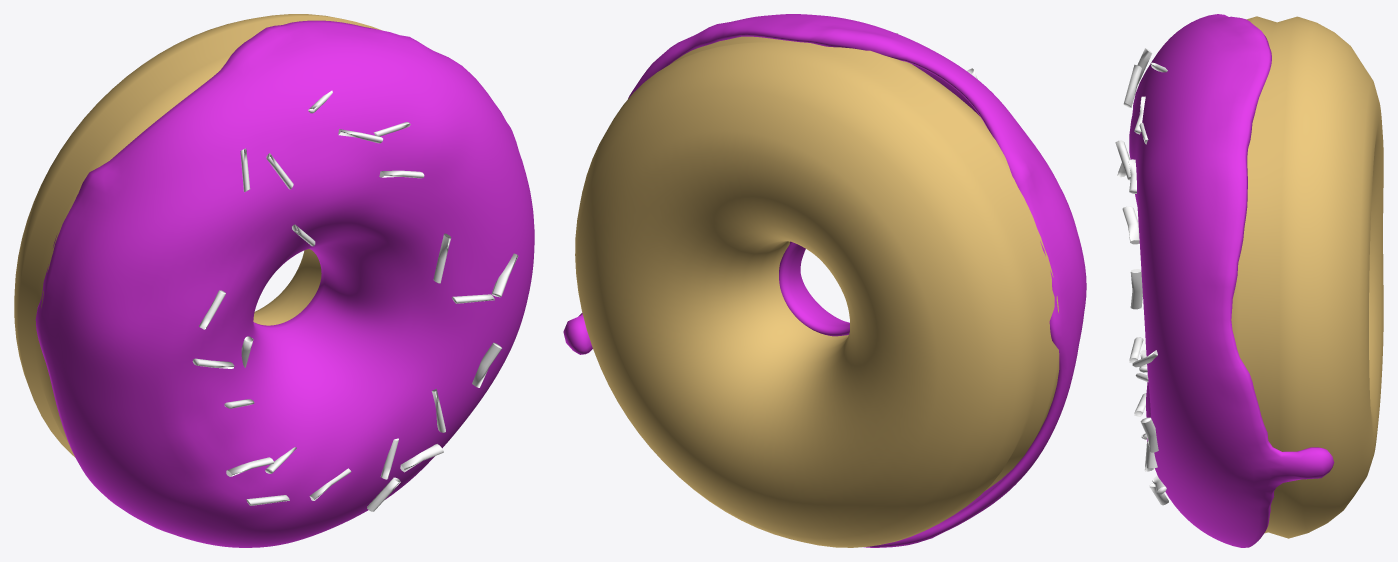
Rendered from Donut.gltf.
3 renders of one model, left to right at view 1: azimuth 30°, elevation 25°; view 2: azimuth 150°, elevation 25°; view 3: azimuth 270°, elevation 25°, orthographic. The views are drawn at different scales.
Visible parts, largest first — view 1: Icing, Donut, Sprinkle; view 2: Donut, Icing; view 3: Donut, Icing, Sprinkle.
Boxes of the visible parts, left/top/right/bottom form: Icing: left=35, top=20, right=534, bottom=547; Donut: left=14, top=14, right=382, bottom=457; Sprinkle: left=192, top=90, right=518, bottom=511; Donut: left=575, top=36, right=1059, bottom=547; Icing: left=563, top=14, right=1086, bottom=547; Donut: left=1231, top=16, right=1383, bottom=538; Icing: left=1129, top=14, right=1334, bottom=547; Sprinkle: left=1115, top=48, right=1168, bottom=505.
Size of the model in its own units: 0.1005 by 0.1015 by 0.0503.
